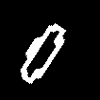chain: (21, 24, 65, 83)
